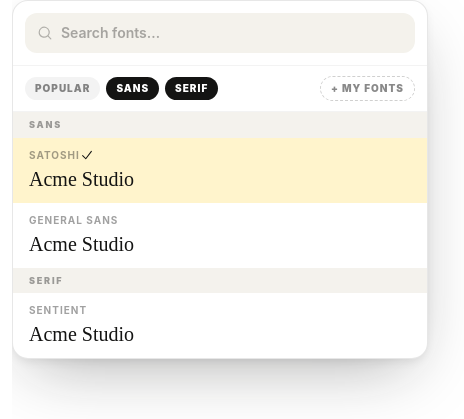
Test: FontPanel › shows an empty state when nothing matches
Type "zzzz" into the field with placeholder "Search fonts…".
click(220, 33); type("zzzz")  # box [25, 13, 415, 53]
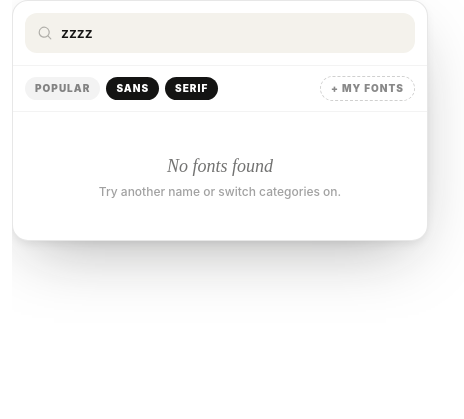
Result: the text "No fonts found" is shown at [167, 156, 273, 176]
